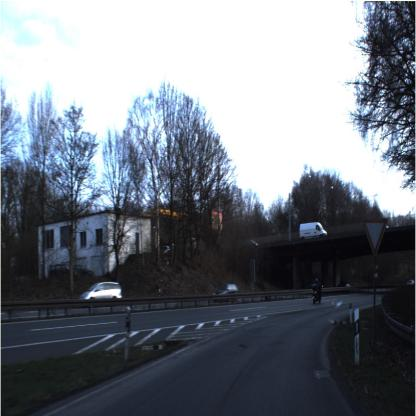give way: (361, 218, 388, 258)
